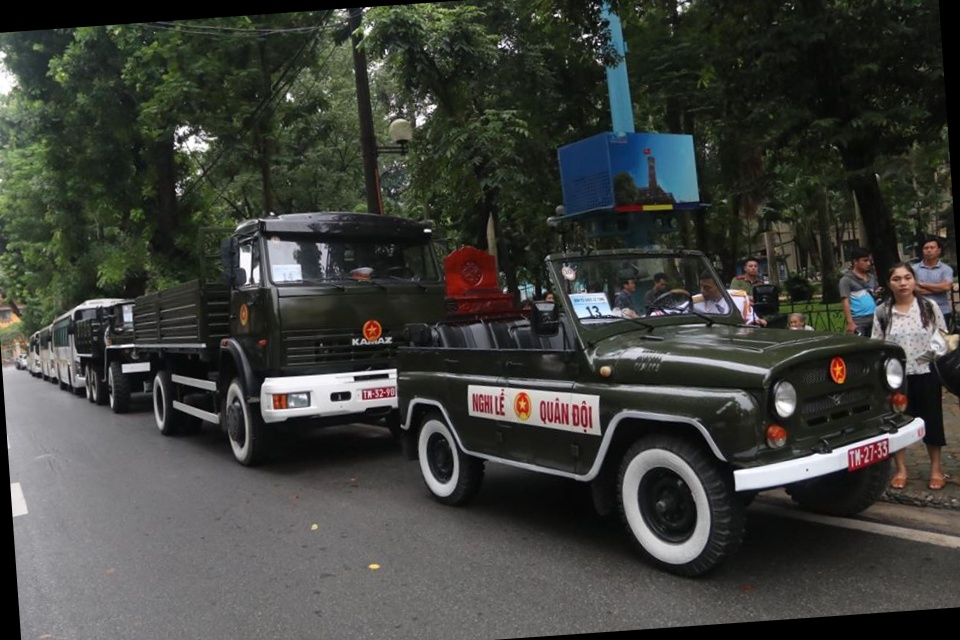plate: (846, 435, 891, 477), (359, 380, 399, 408)
